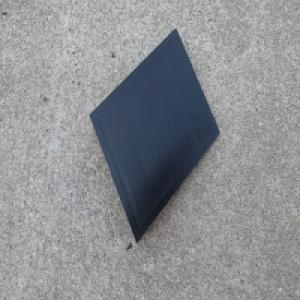PlasticPart: (88, 27, 220, 246)
